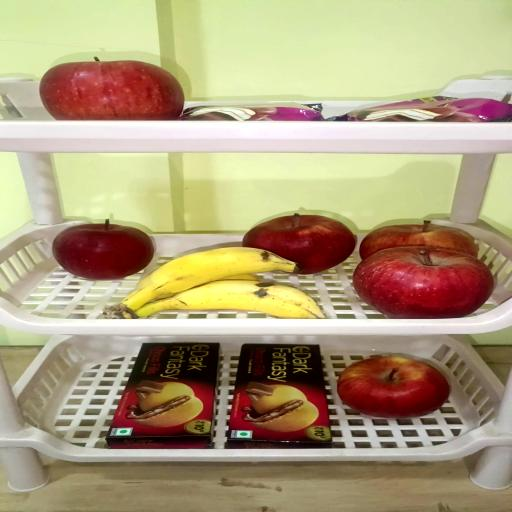Apple: (352, 248, 494, 320), (38, 57, 183, 121), (338, 356, 450, 418), (244, 215, 356, 276), (51, 220, 154, 282), (359, 221, 477, 262)
Choco Fills: (106, 341, 216, 449), (228, 343, 332, 448)
Choco Pie: (326, 95, 510, 122), (182, 103, 324, 120)
